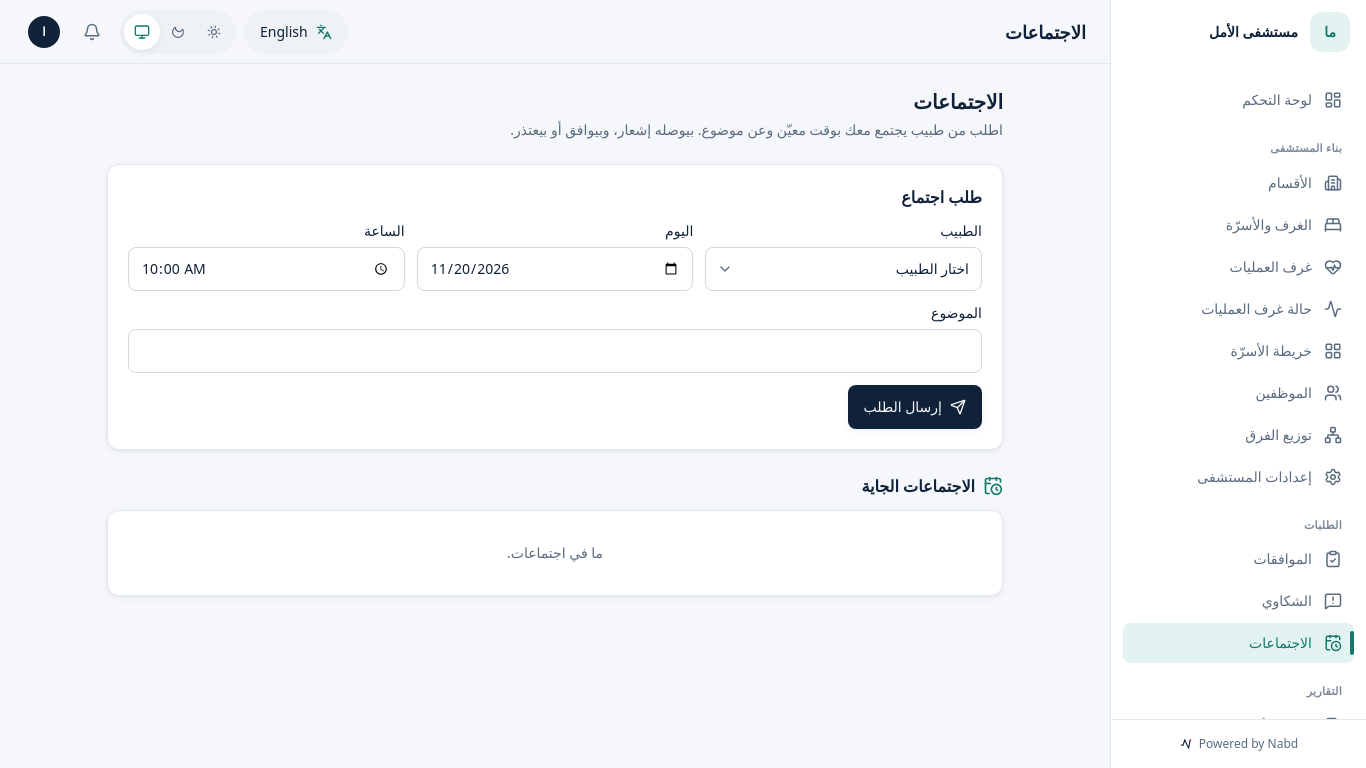
meetings (task 4.10) › the admin asks a doctor to meet
Click the button "إرسال الطلب": click(915, 407) [848,385,982,429]
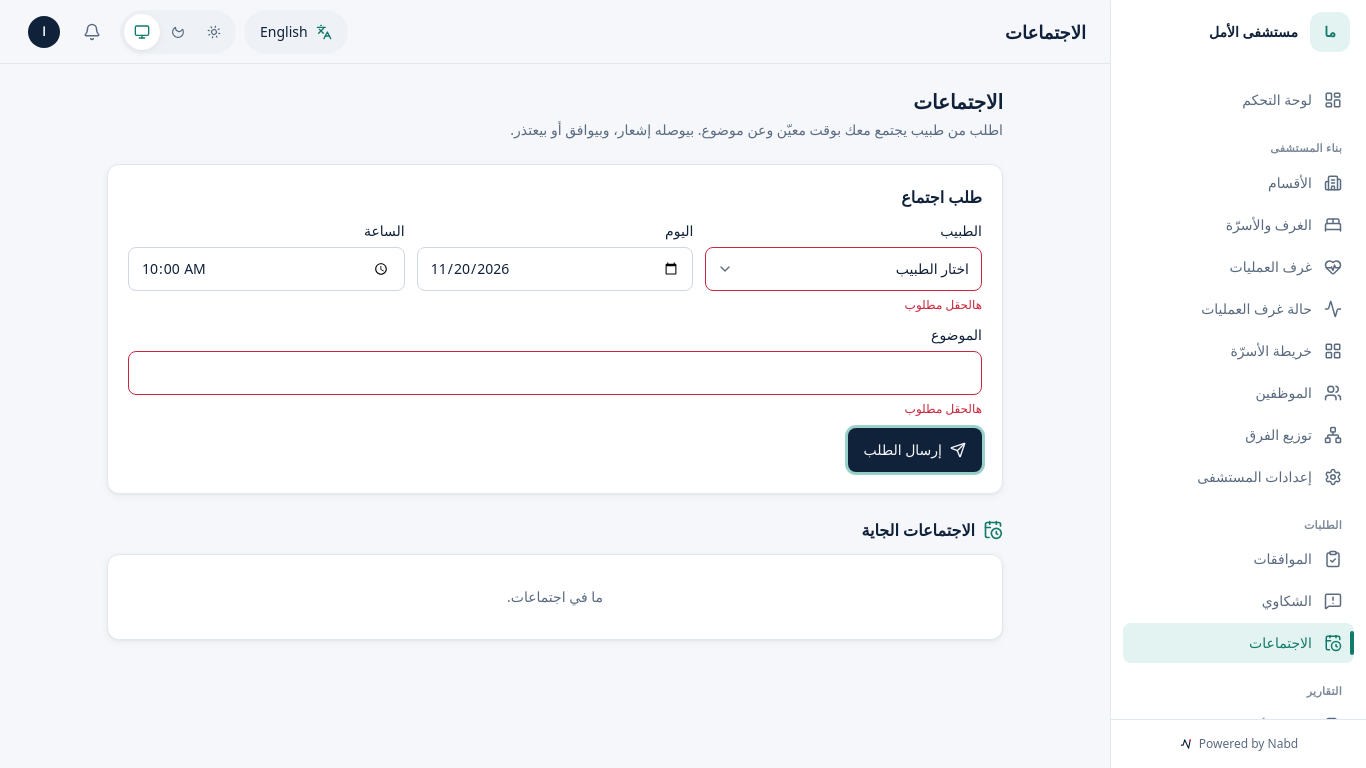
Result: the text "هالحقل مطلوب" below "الطبيب" is shown at [905,296,982,313]
Select "د. سامي" in the dropdown labelled "الطبيب": (844, 269) [705,247,982,291]
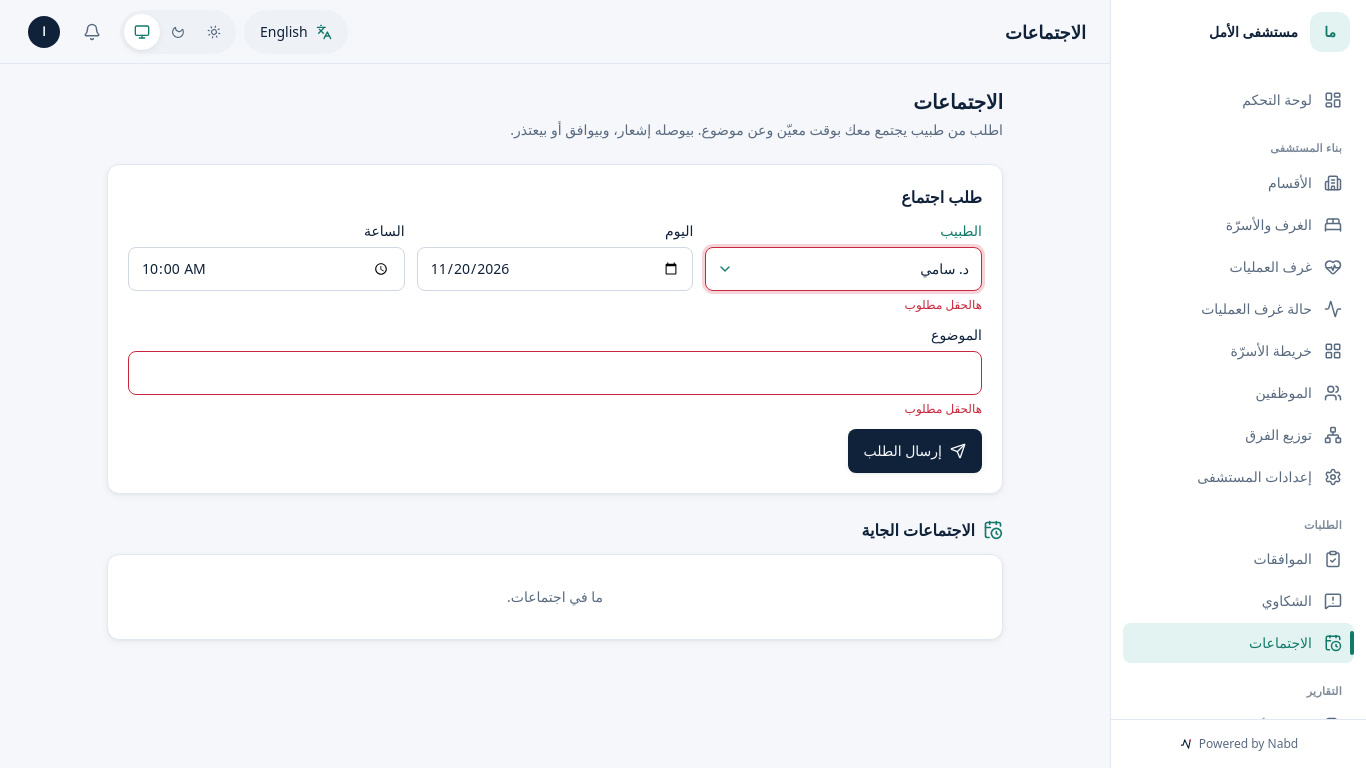
In the field labelled "الموضوع": (555, 373) [128,351,982,395], type "جدول المناوبات"
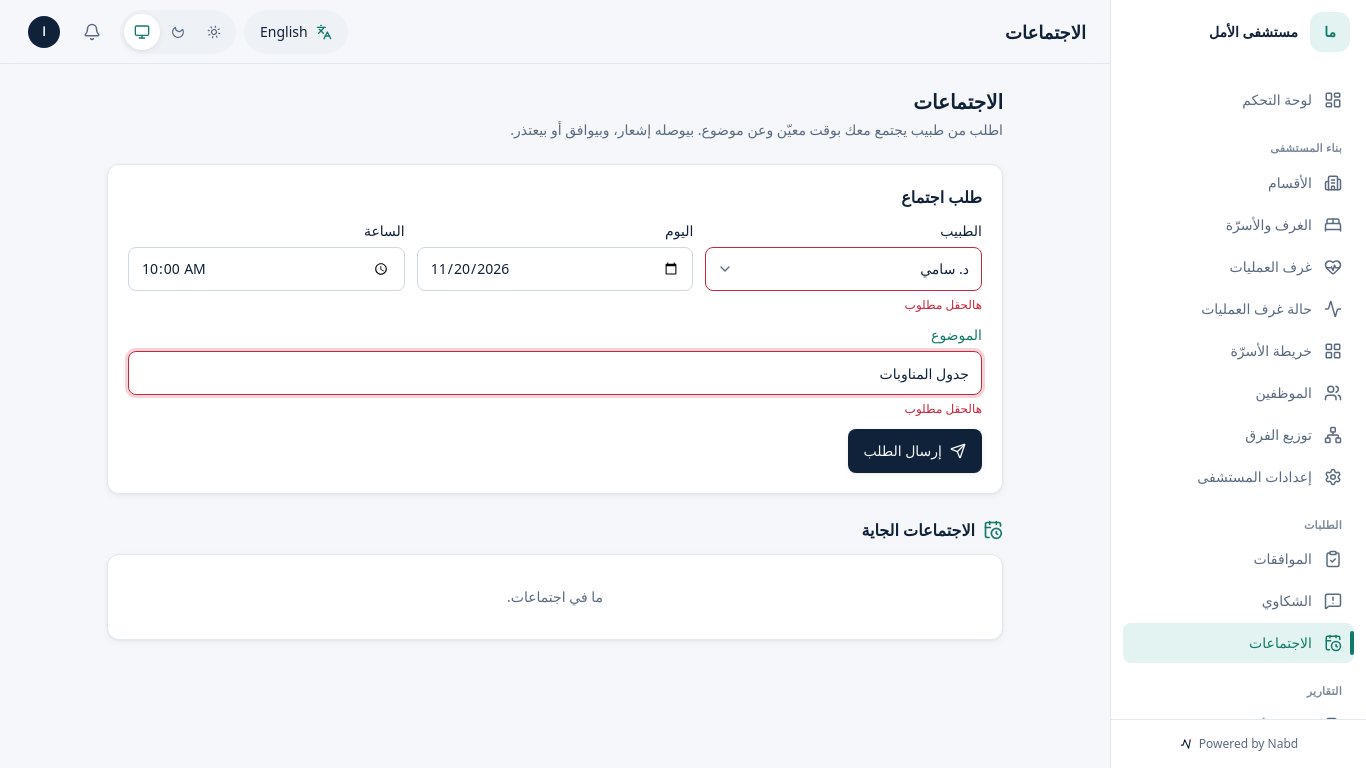
Click the button "إرسال الطلب": click(915, 451) [848,429,982,473]
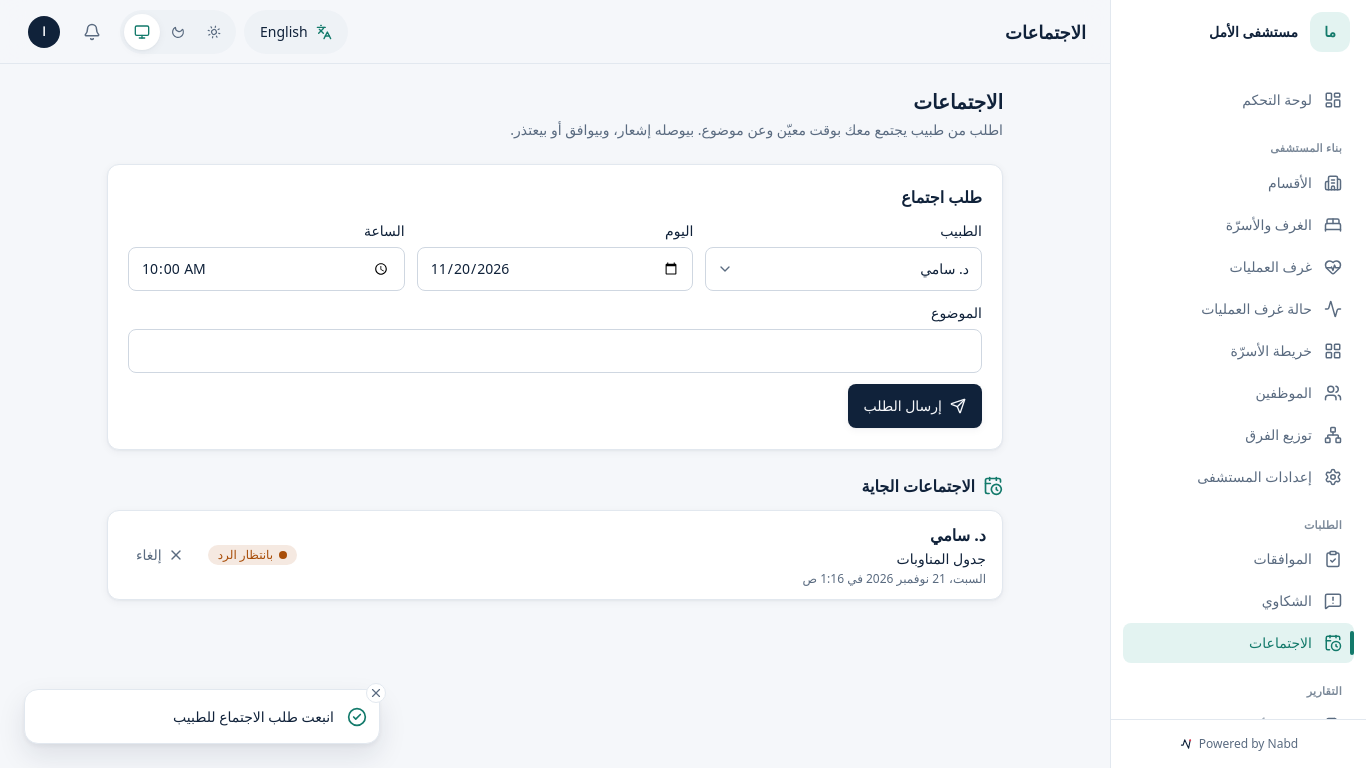
Result: the text "بانتظار الرد" is shown at [208,545,297,565]
